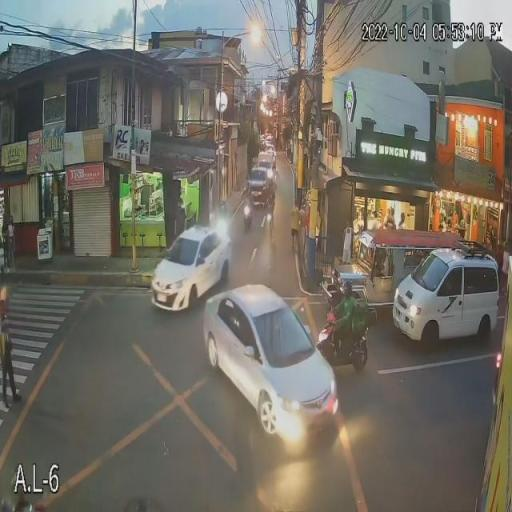helmet: (340, 282, 356, 300)
motorcycle: (312, 311, 368, 367)
rider: (336, 292, 353, 343)
